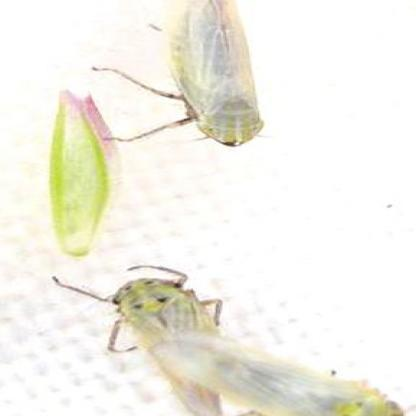brown-planthopper: (44, 264, 408, 416), (90, 0, 264, 155)
